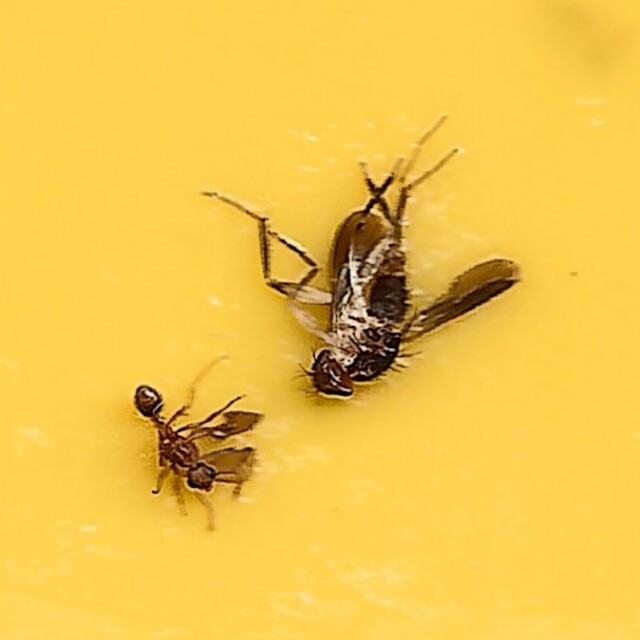Brachycera: (201, 117, 518, 406)
Hymenoptera: (122, 370, 262, 523)
